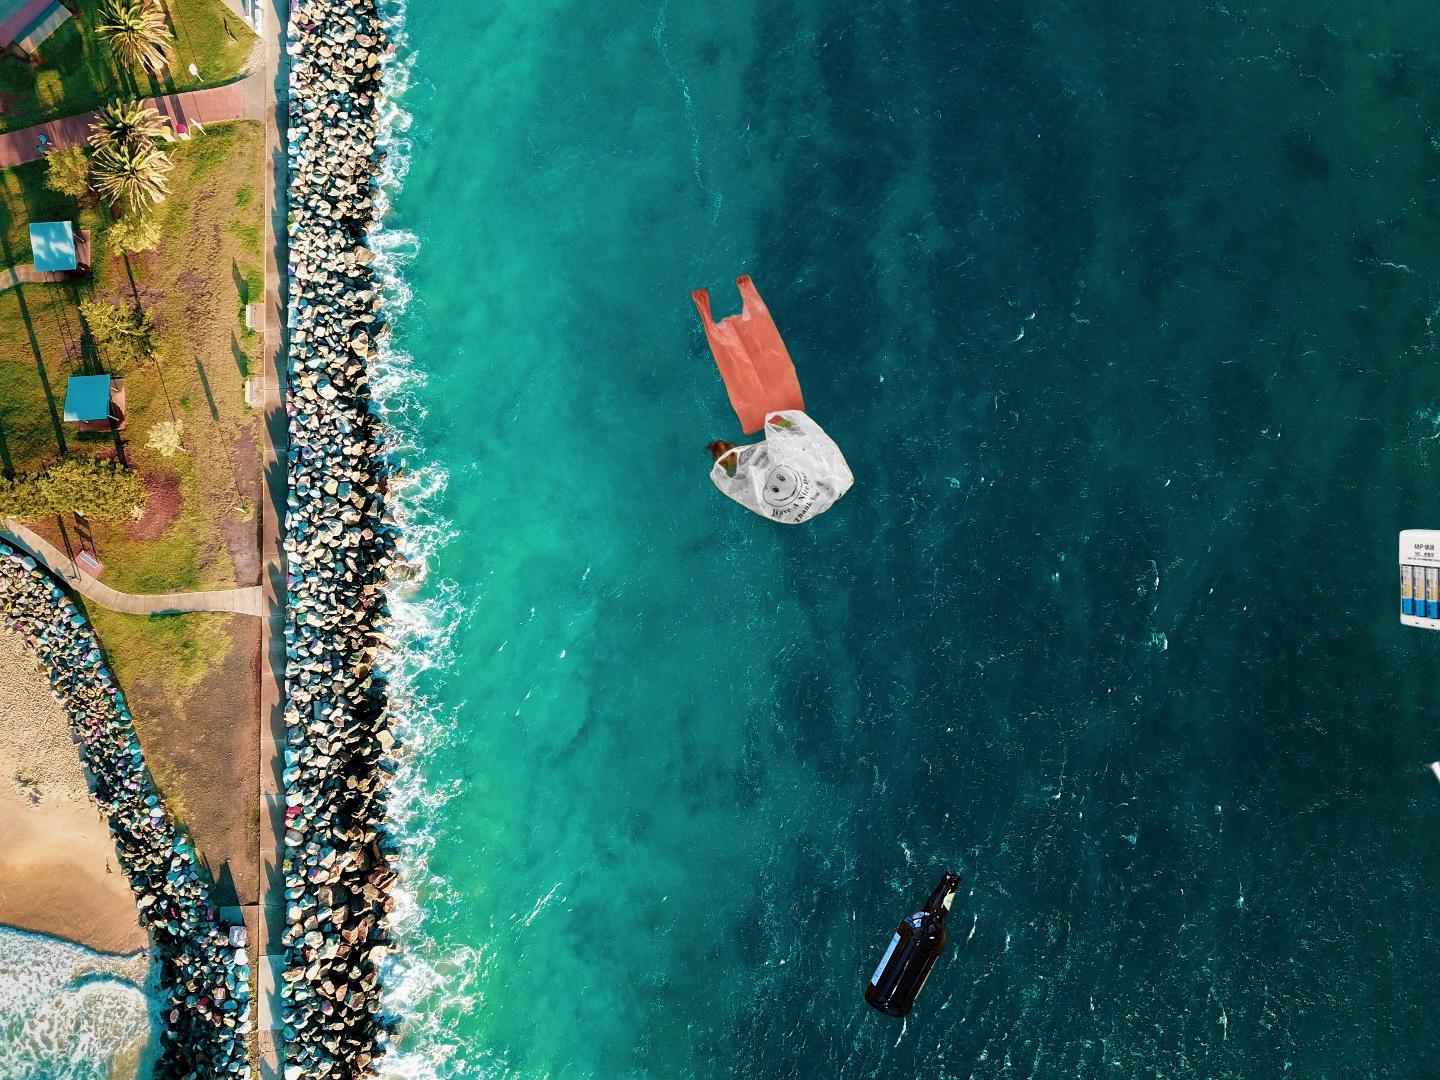battery: (1396, 526, 1440, 638)
glass: (859, 864, 966, 1024)
paper: (1345, 742, 1440, 877)
plastic-bag: (689, 272, 856, 528)
